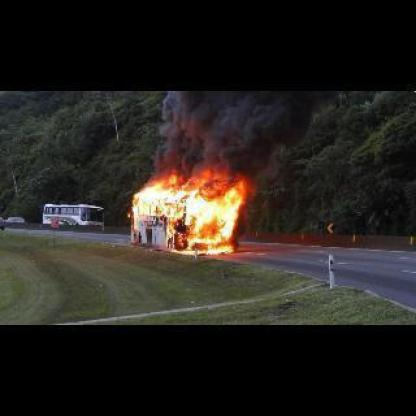fire: (124, 176, 249, 256)
